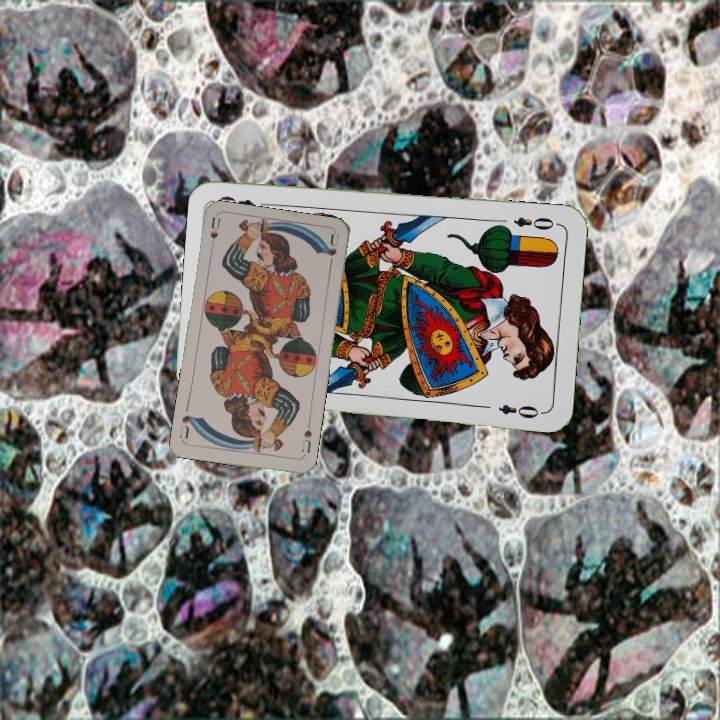EO: (509, 212, 562, 232)
SU: (297, 419, 315, 459), (206, 214, 223, 255)
